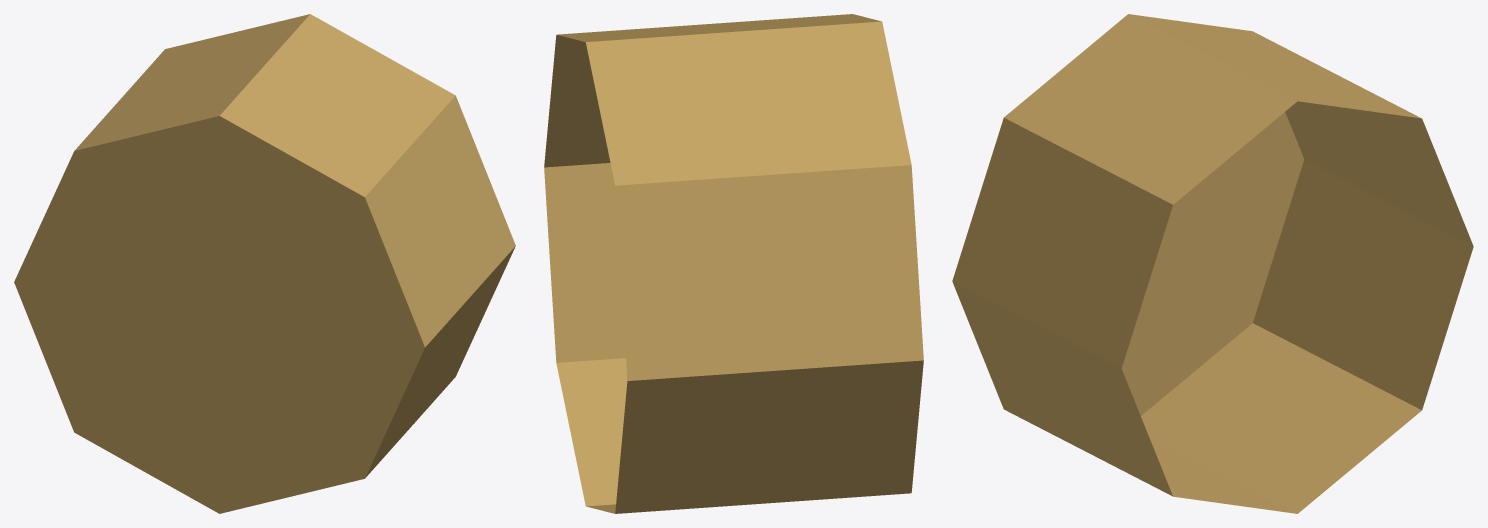
The model's file is lamp_head.003_material.006_0_lev1.glb.
The picture shows the model from 3 angles, left to right: view 1: azimuth 30°, elevation 25°; view 2: azimuth 150°, elevation 25°; view 3: azimuth 270°, elevation 25°; orthographic projection. The views are drawn at different scales.
Visible parts, largest first — view 1: lamp_head.003_material.006_0_lev1; view 2: lamp_head.003_material.006_0_lev1; view 3: lamp_head.003_material.006_0_lev1.
Boxes of the visible parts, bbox=[...] form: lamp_head.003_material.006_0_lev1: bbox=[14, 14, 515, 513]; lamp_head.003_material.006_0_lev1: bbox=[544, 14, 923, 513]; lamp_head.003_material.006_0_lev1: bbox=[952, 14, 1473, 513].
Size of the model in its own units: 3.55 by 3.26 by 3.73.
